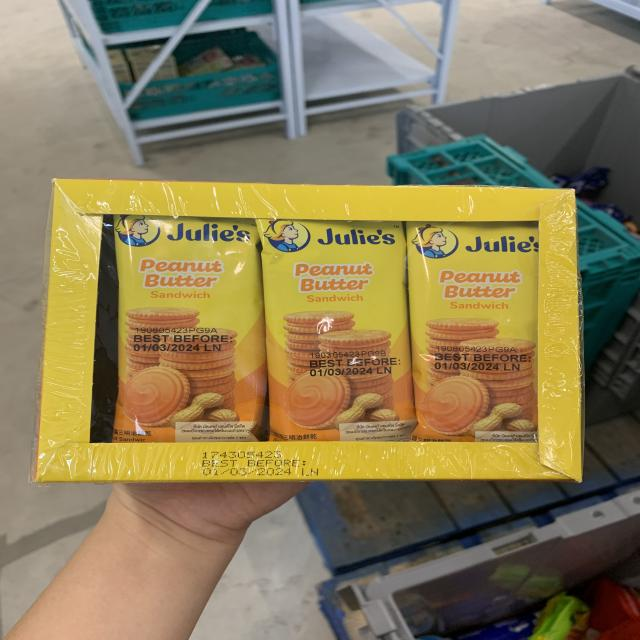object_name: (55, 181, 571, 471)
